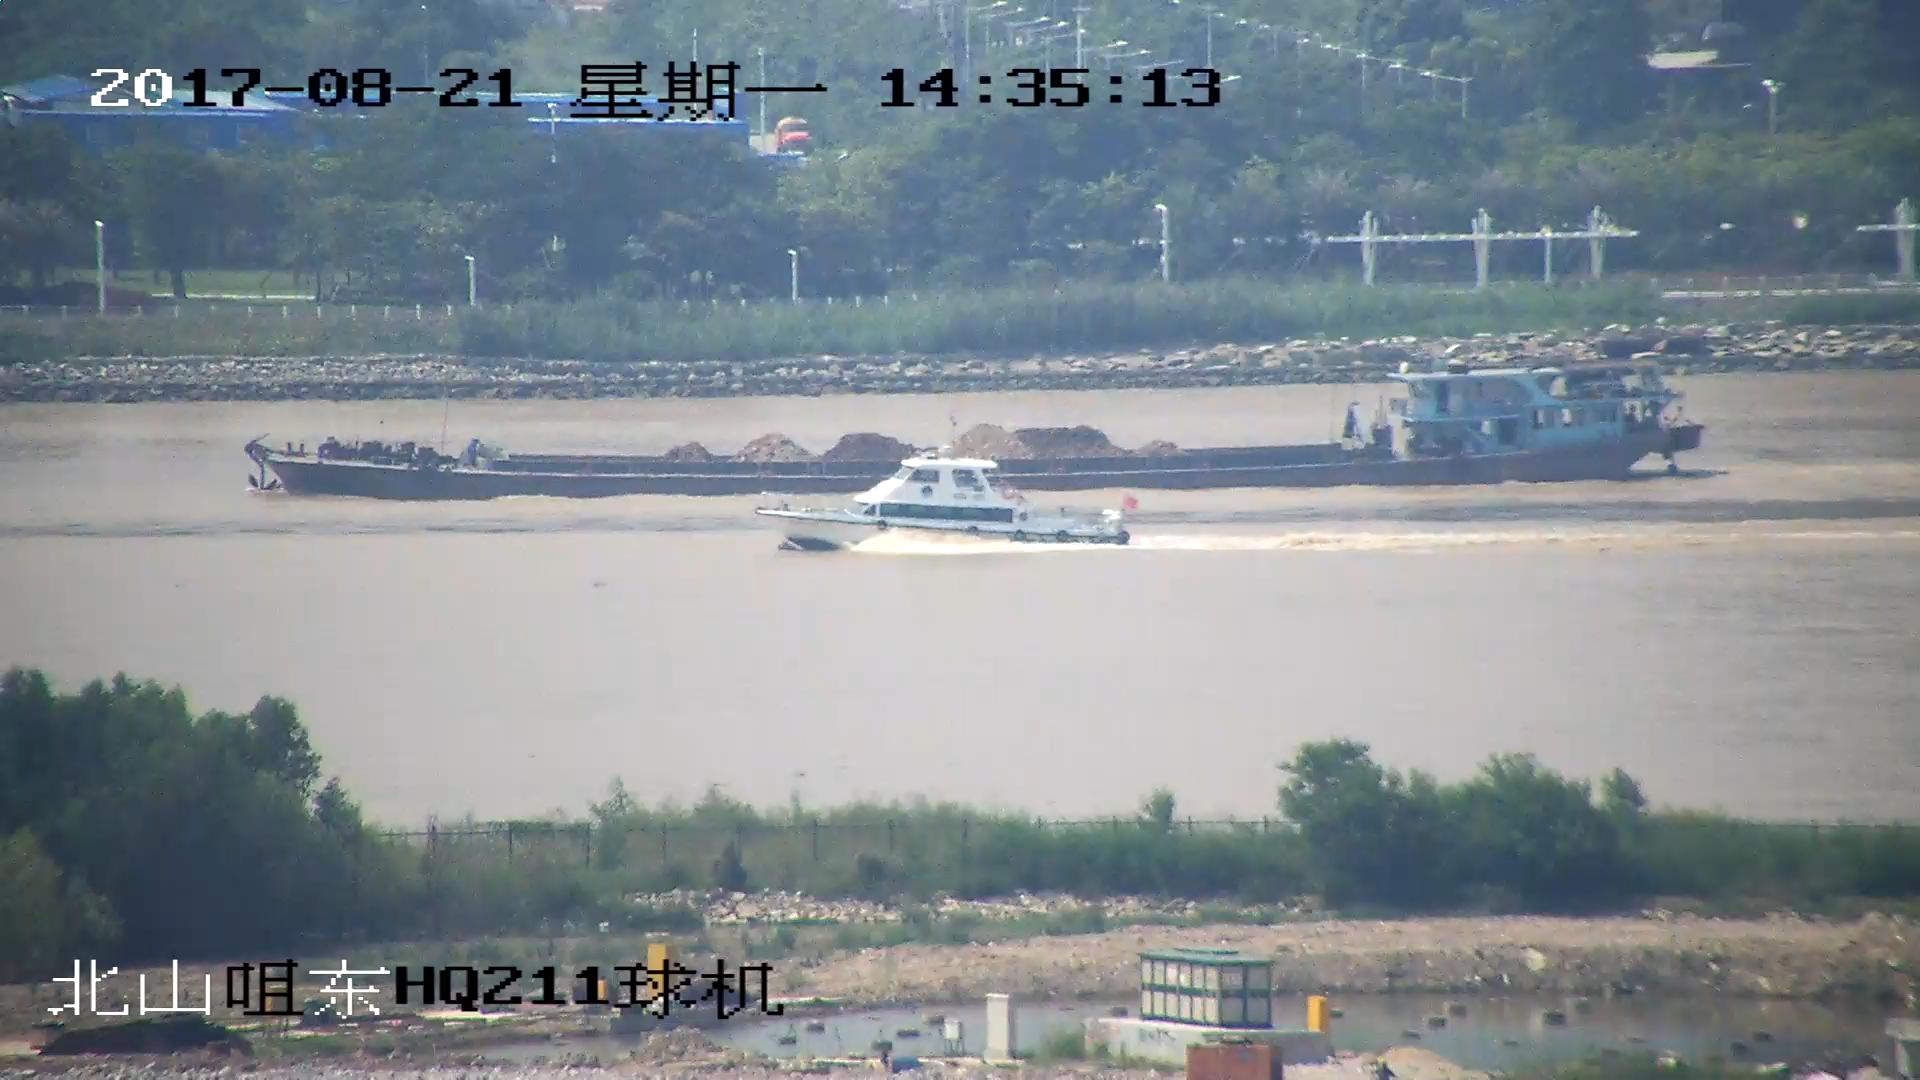ore carrier: (237, 359, 1708, 504)
passenger ship: (764, 454, 1134, 559)
